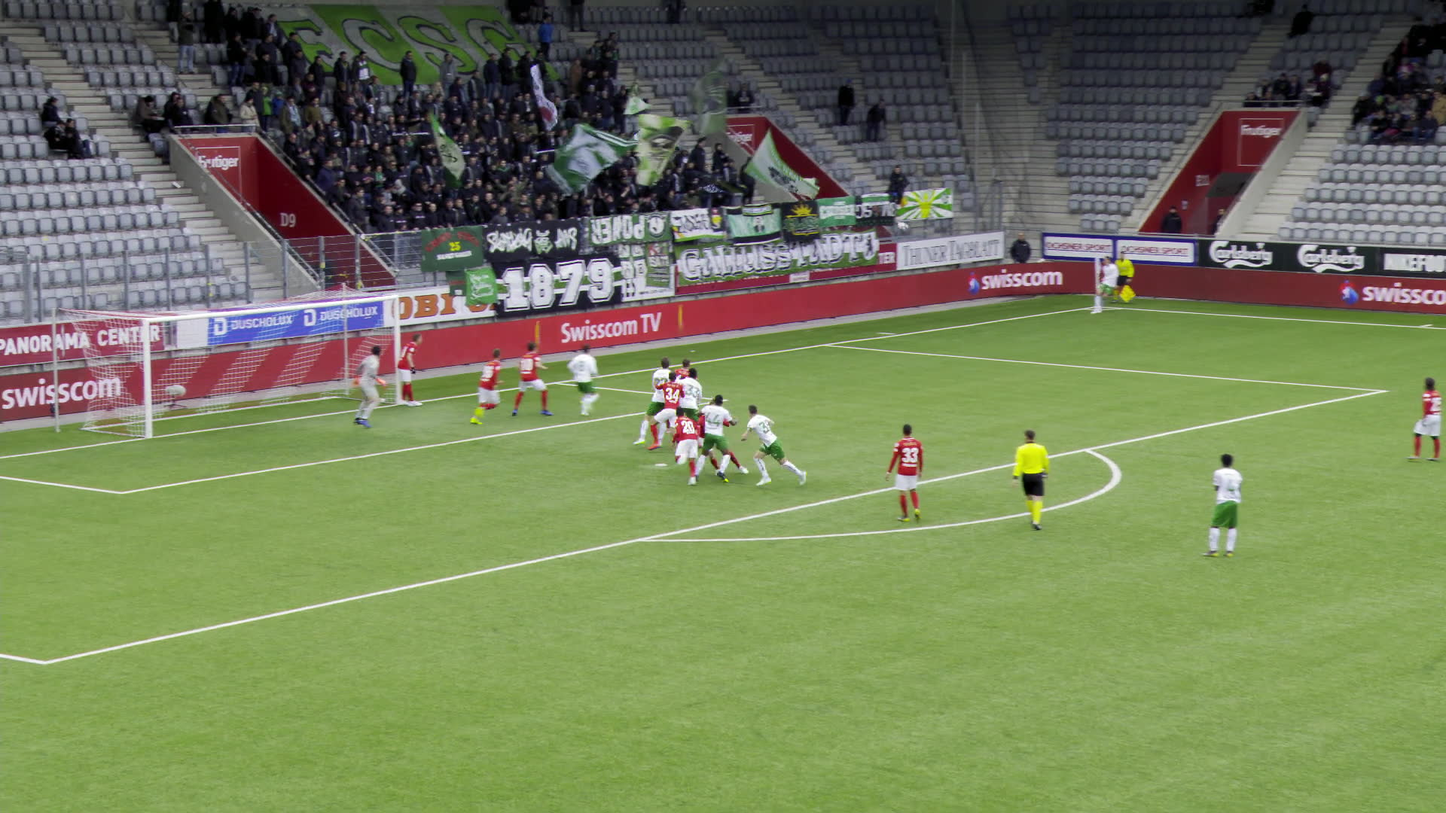ball: (901, 224, 914, 235)
player: (743, 404, 804, 489), (1202, 453, 1243, 558), (660, 403, 711, 486), (885, 422, 924, 523), (630, 359, 671, 447), (694, 394, 734, 483), (462, 346, 506, 425), (646, 370, 688, 452), (508, 341, 551, 416), (698, 398, 739, 473), (563, 343, 603, 416), (352, 343, 385, 429), (394, 332, 423, 407), (1408, 377, 1432, 460), (672, 365, 703, 428), (1091, 256, 1123, 314), (671, 353, 692, 382)
referee: (1011, 429, 1050, 529), (1112, 251, 1136, 303)
